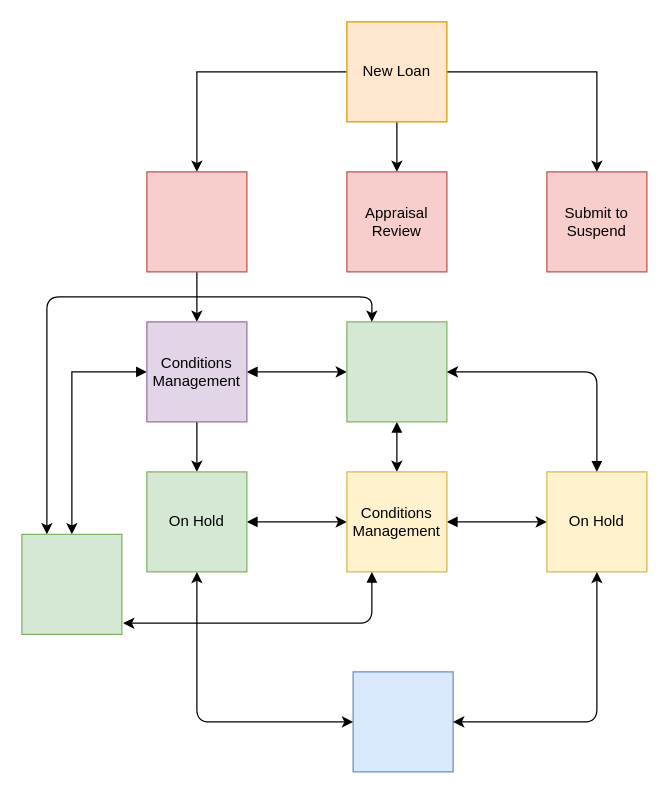
Some shapes in this 669 by 794 pixel diagram are drawn without their labels. Here are the shapes that lost their labels. From the top down, the box of each, then its label:
(146, 171, 247, 272): Underwriting
(346, 321, 447, 422): Resubmit to Underwriting
(21, 533, 122, 634): Ready to Close
(352, 671, 453, 772): NOA (Cancel, Withdrawn, Decline etc...)
